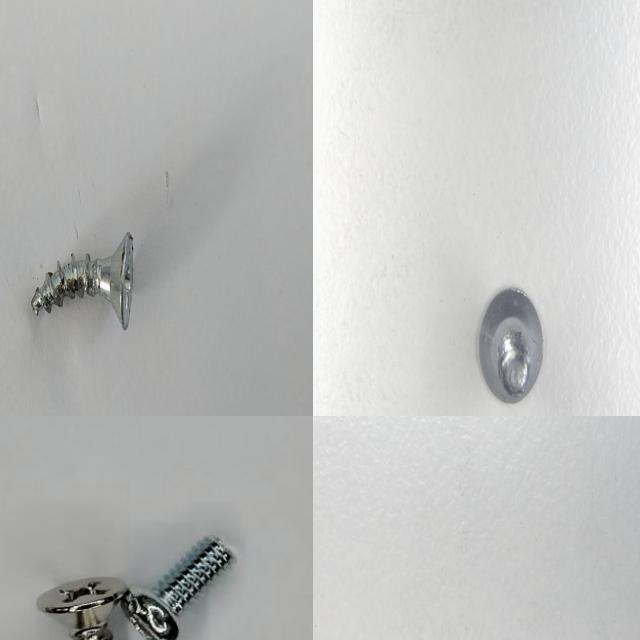Screw: (122, 537, 235, 640), (31, 231, 133, 329), (479, 289, 543, 404), (38, 578, 129, 640)
